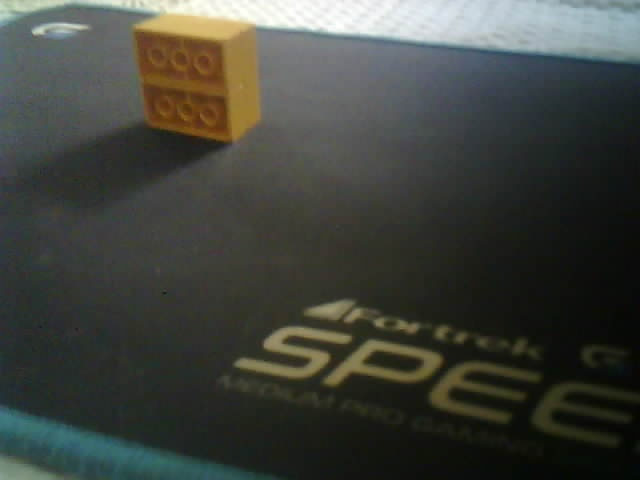lego: (131, 11, 262, 144)
